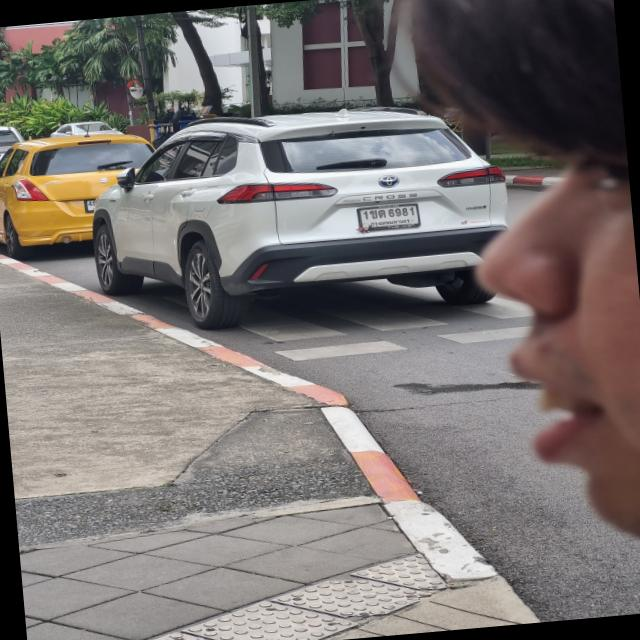license_plate: (351, 200, 424, 238)
